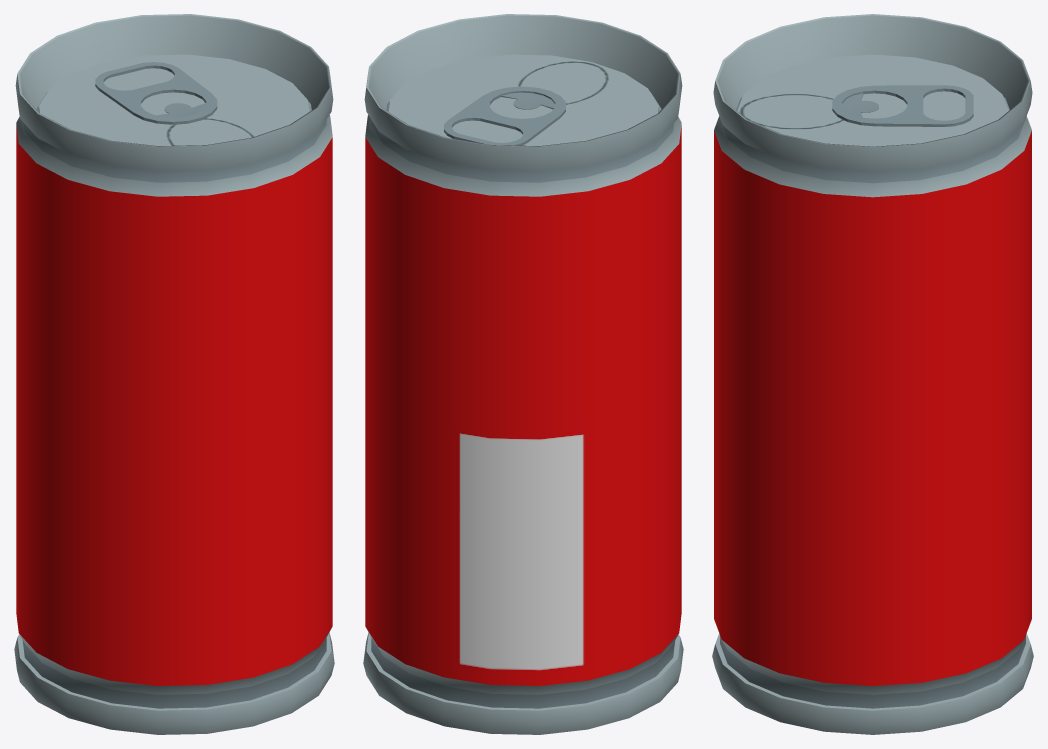
Rendered from can.fbx.
The picture shows the model from 3 angles, left to right: view 1: azimuth 30°, elevation 25°; view 2: azimuth 150°, elevation 25°; view 3: azimuth 270°, elevation 25°; orthographic projection.
Visible parts, largest first — view 1: pCylinder5; view 2: pCylinder5; view 3: pCylinder5.
Part boxes in pixels (x1,y1,x2,y2): pCylinder5: (14,14,334,734); pCylinder5: (363,14,683,734); pCylinder5: (712,14,1033,734).
Size of the model in its own units: 5.82 by 11.73 by 5.82.
1 material, 1 textured.
